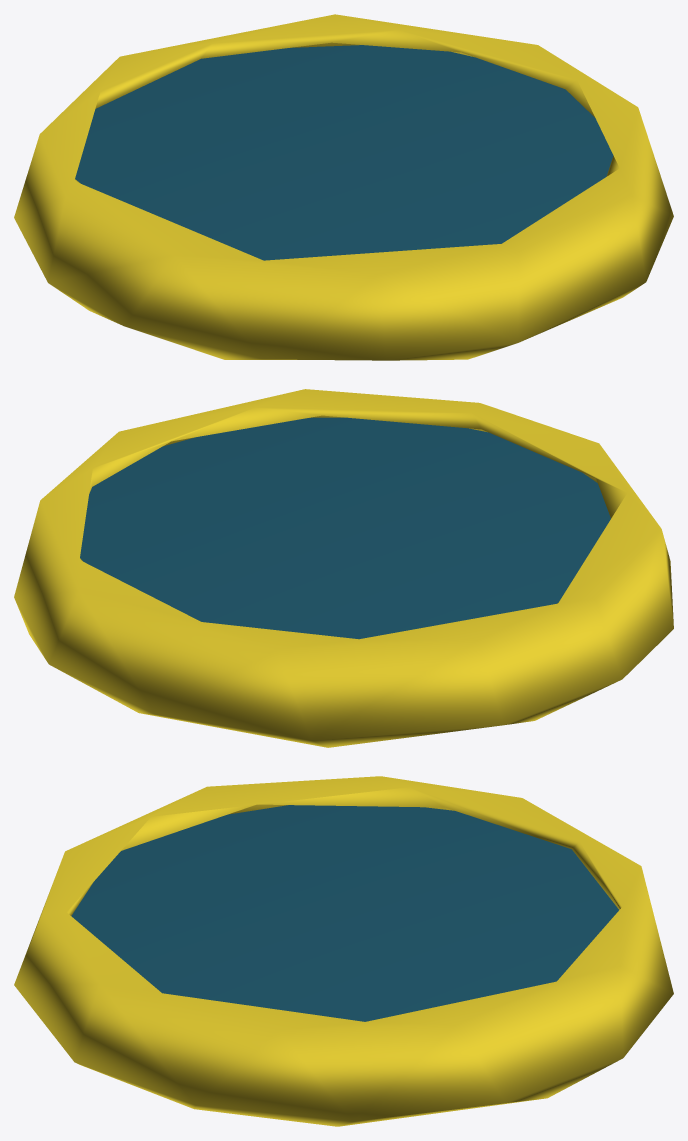
Rendered from Pizza.fbx.
3 views of the same model, one above another, from view 1: azimuth 30°, elevation 25°; view 2: azimuth 150°, elevation 25°; view 3: azimuth 270°, elevation 25° (orthographic).
Visible parts, largest first — view 1: Cylinder; view 2: Cylinder; view 3: Cylinder.
Part boxes in pixels (x1,y1,x2,y2): Cylinder: [14, 14, 673, 360]; Cylinder: [14, 389, 673, 747]; Cylinder: [14, 776, 673, 1126].
Size of the model in its own units: 193 by 193 by 29.13.
